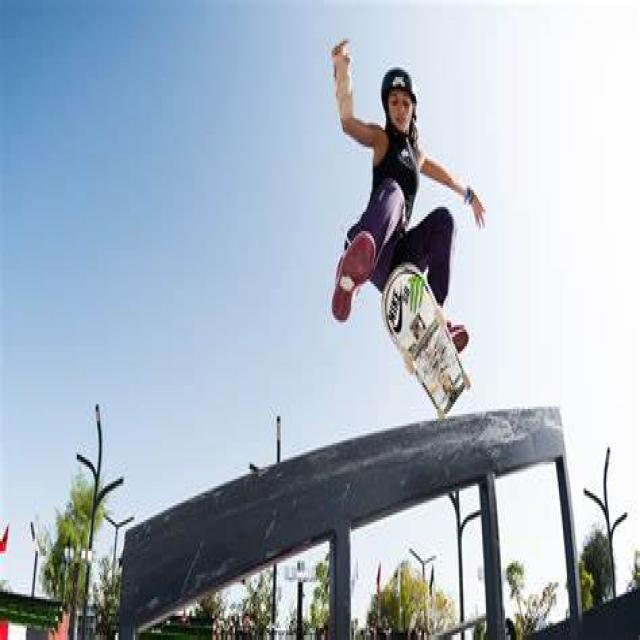sit: (350, 46, 487, 362)
